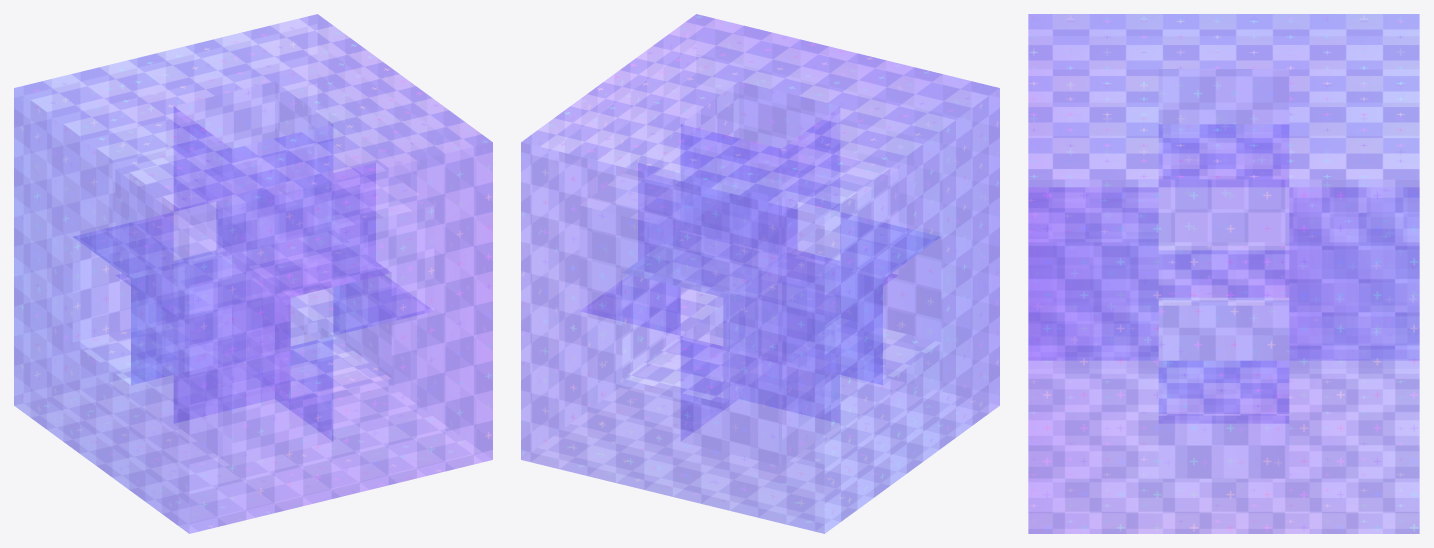
Rendered from Sponge.gltf.
The picture shows the model from 3 angles, left to right: view 1: azimuth 30°, elevation 25°; view 2: azimuth 150°, elevation 25°; view 3: azimuth 270°, elevation 25°; orthographic projection. The views are drawn at different scales.
Visible parts, largest first — view 1: Sponge; view 2: Sponge; view 3: Sponge.
Boxes of the visible parts, left/top/right/bottom form: Sponge: left=14, top=14, right=492, bottom=533; Sponge: left=521, top=14, right=999, bottom=533; Sponge: left=1028, top=14, right=1419, bottom=533.
Bounding box in the file's own units: 2 × 2 × 2.
Materials: 1 (1 with a texture image).
